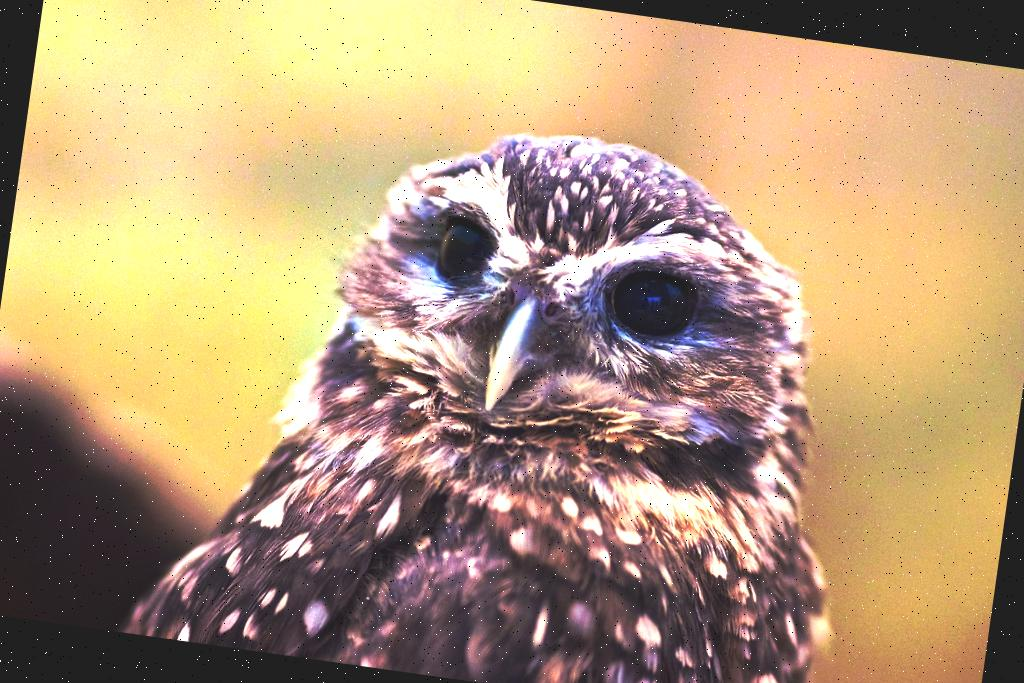Owl: (123, 81, 895, 683)
